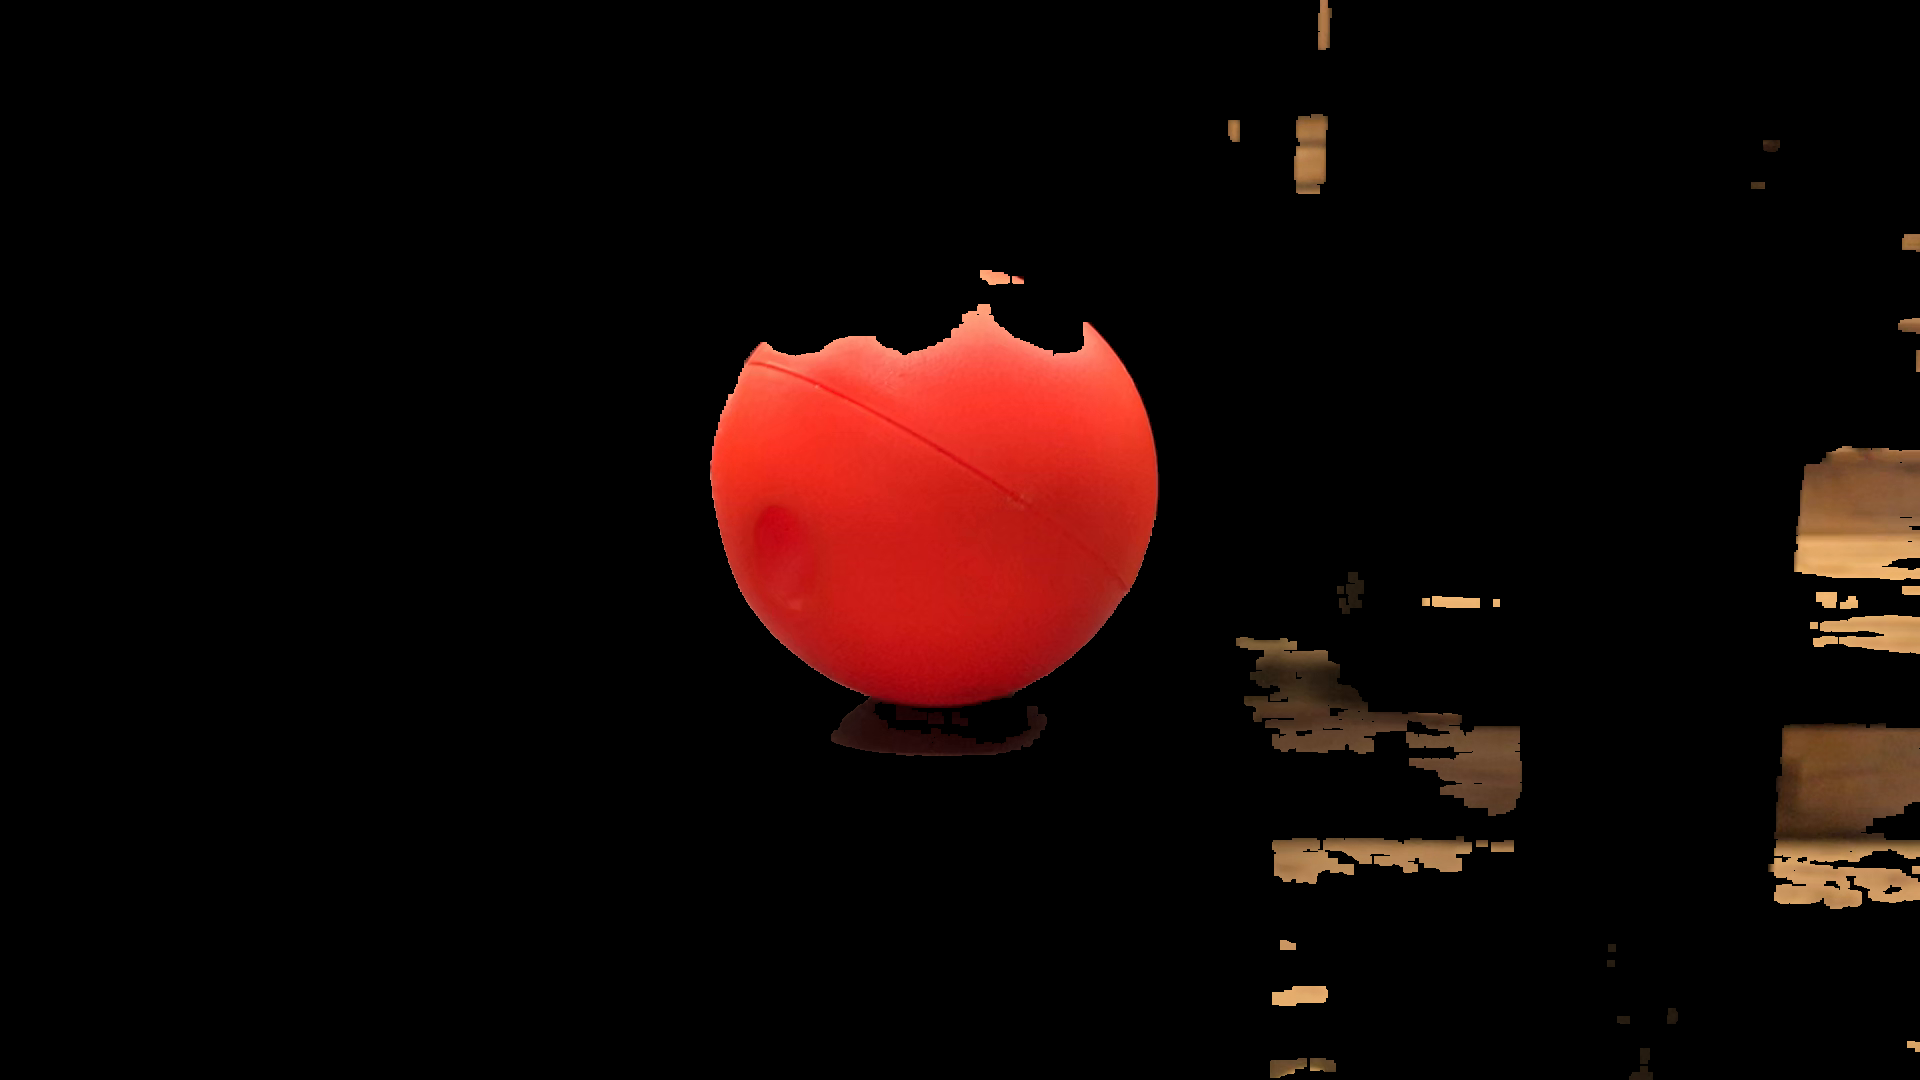Ball: (711, 257, 1164, 703)
